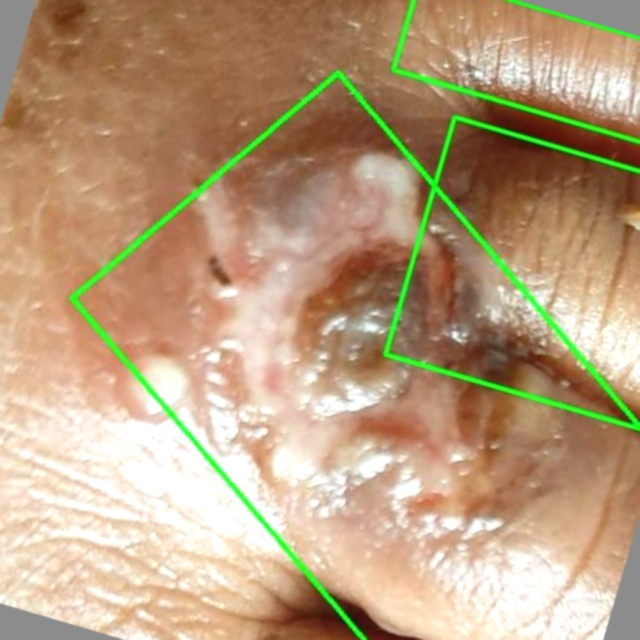Eczema: (72, 58, 639, 639), (385, 117, 639, 428), (393, 0, 639, 141)
